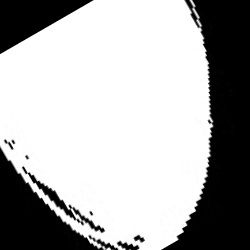spot: (2, 3, 213, 246)
